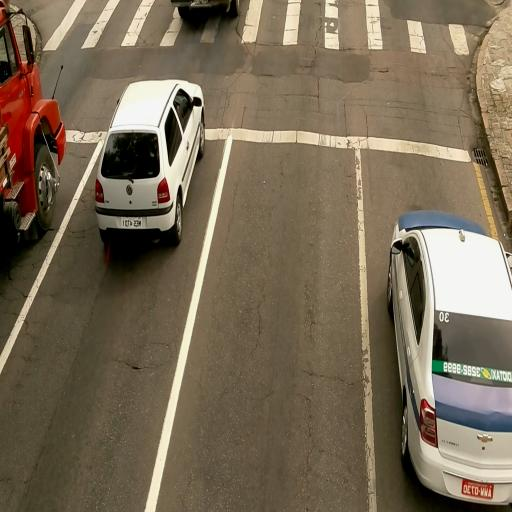car: (386, 212, 512, 505), (99, 79, 206, 248), (173, 0, 237, 20)
others: (2, 0, 67, 246)
